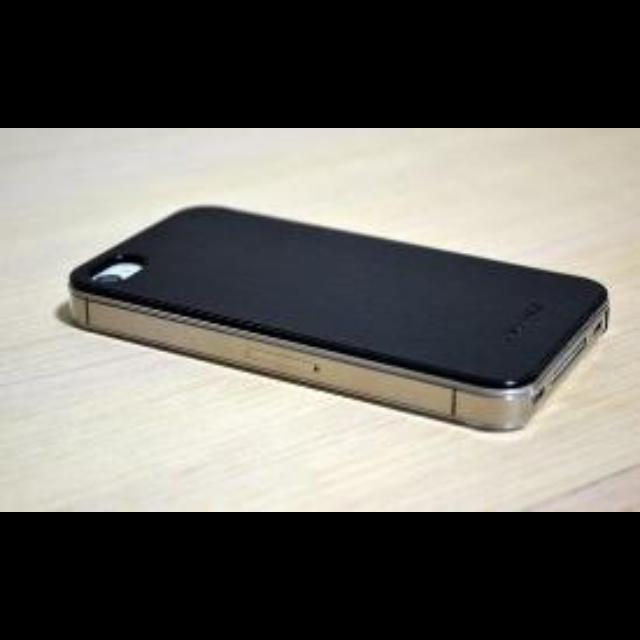Phone: (44, 189, 622, 445)
